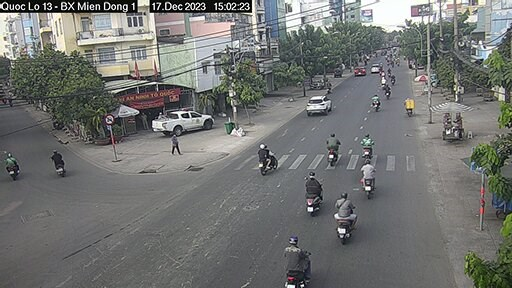car: (147, 105, 221, 140), (305, 91, 328, 123)
motorbike: (275, 231, 320, 283), (325, 127, 356, 175), (334, 180, 355, 247), (304, 161, 329, 217), (253, 142, 281, 183), (48, 147, 73, 180), (356, 161, 380, 186), (365, 129, 377, 154)
